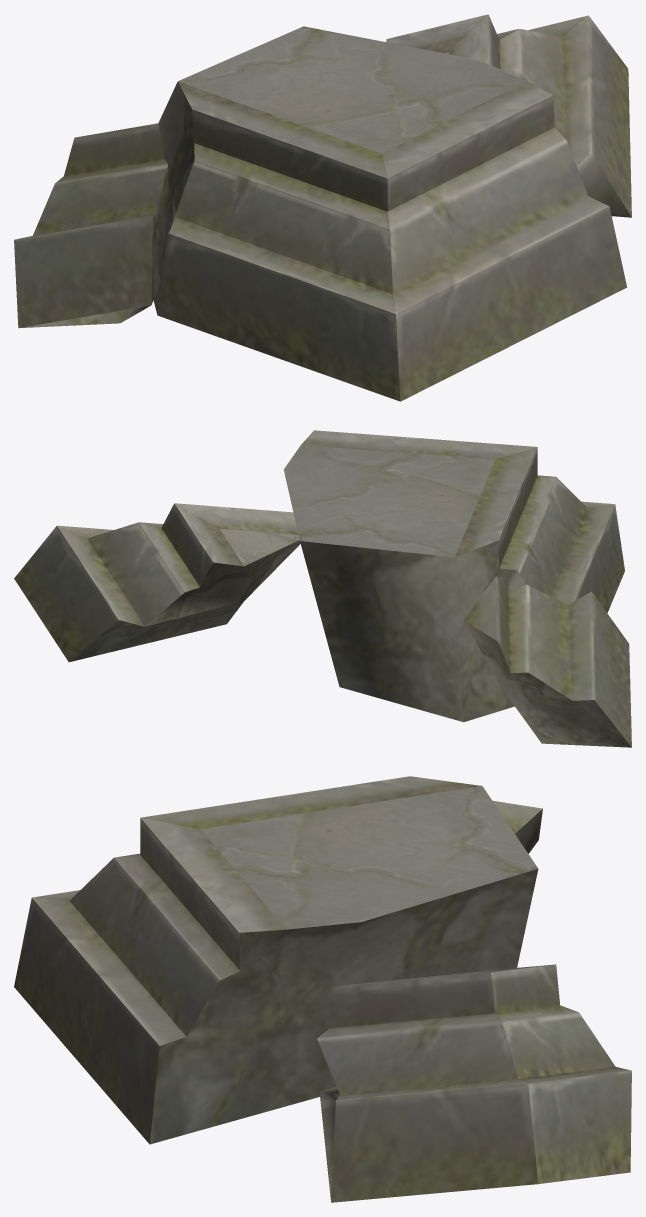
The model's file is wlf_wujian07_jgc.FBX.
The picture shows the model from 3 angles, top to bottom: view 1: azimuth 30°, elevation 25°; view 2: azimuth 150°, elevation 25°; view 3: azimuth 270°, elevation 25°; orthographic projection. The views are drawn at different scales.
Parts seen in each view (by area): view 1: wlf_wujian07_jgc; view 2: wlf_wujian07_jgc; view 3: wlf_wujian07_jgc.
Boxes of the visible parts, <box> form: wlf_wujian07_jgc: <box>14,14,631,401</box>; wlf_wujian07_jgc: <box>14,430,631,747</box>; wlf_wujian07_jgc: <box>14,776,631,1202</box>.
Bounding box in the file's own units: 25.55 × 7.73 × 18.53.
